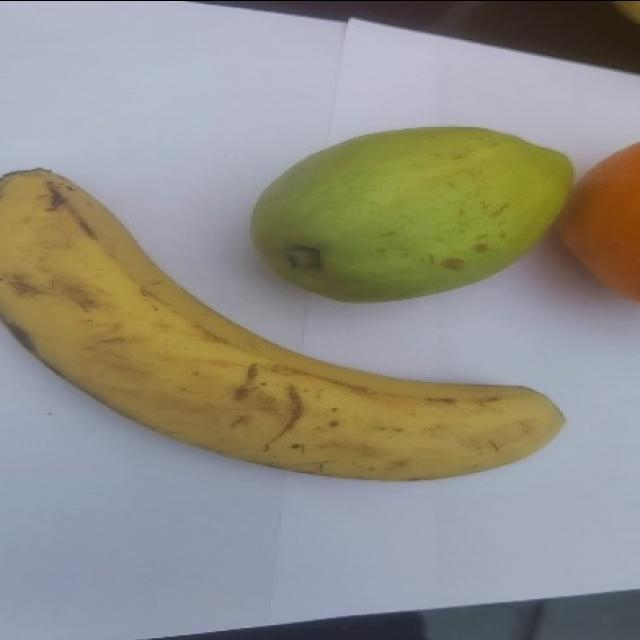Banana: (0, 166, 566, 481)
Orange: (557, 140, 639, 302)
